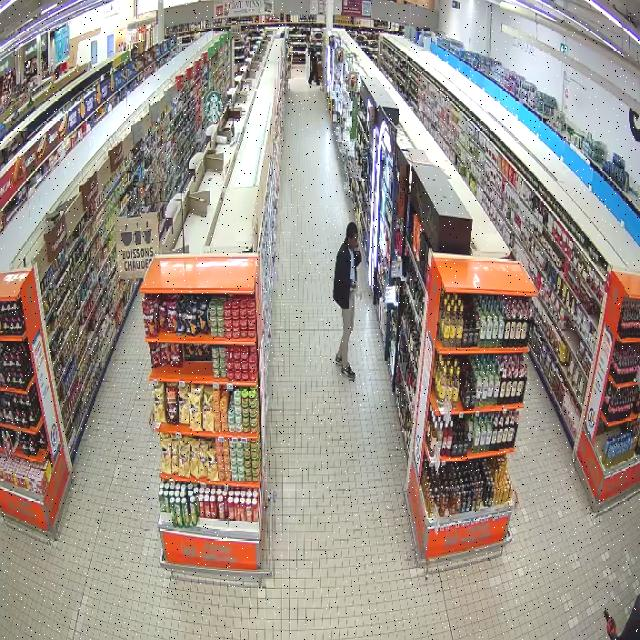article: (353, 284, 363, 300)
hands: (350, 279, 356, 288)
person: (333, 222, 361, 379)
